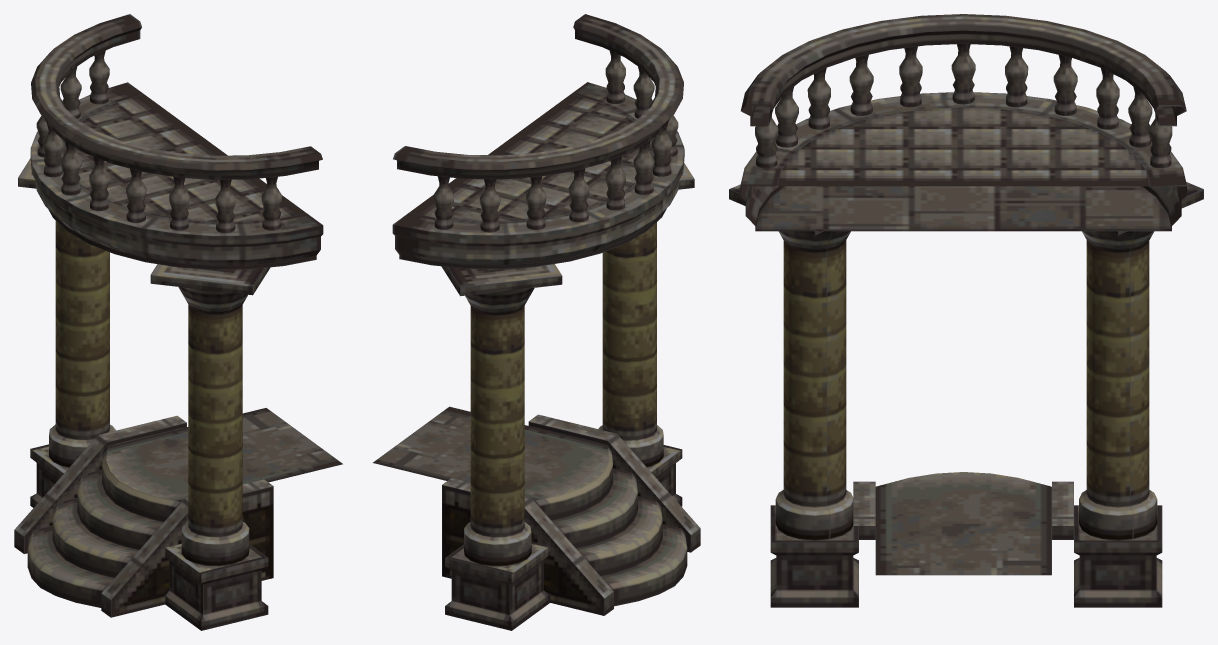
Rendered from EnvBdgMD_Mansion_A_Outdoor_Balcony_A.FBX.
3 renders of one model, left to right at view 1: azimuth 30°, elevation 25°; view 2: azimuth 150°, elevation 25°; view 3: azimuth 270°, elevation 25°, orthographic. The views are drawn at different scales.
Visible parts, largest first — view 1: EnvBdgMD_Mansion_A_Outdoor_Balcony_A; view 2: EnvBdgMD_Mansion_A_Outdoor_Balcony_A; view 3: EnvBdgMD_Mansion_A_Outdoor_Balcony_A.
Part boxes in pixels (left/top/right/bottom): EnvBdgMD_Mansion_A_Outdoor_Balcony_A: left=14, top=14, right=342, bottom=630; EnvBdgMD_Mansion_A_Outdoor_Balcony_A: left=373, top=14, right=700, bottom=630; EnvBdgMD_Mansion_A_Outdoor_Balcony_A: left=729, top=14, right=1203, bottom=607.
Bounding box in the file's own units: 317 × 525 × 431.
Materials: 1 (1 with a texture image).
